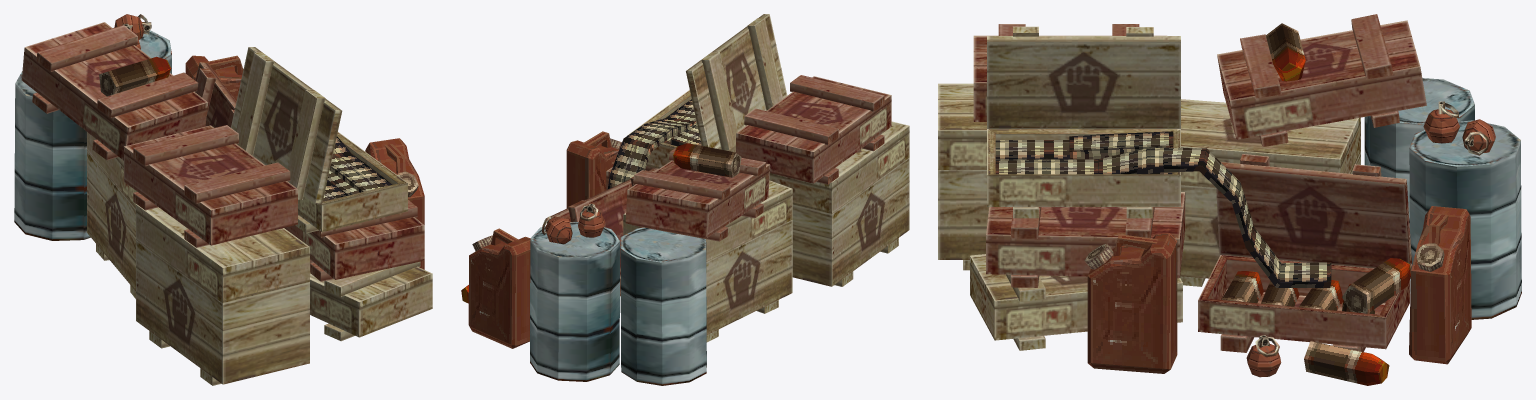
File: C1SMAMMODUMP.obj
3 renders of one model, left to right at view 1: azimuth 30°, elevation 25°; view 2: azimuth 150°, elevation 25°; view 3: azimuth 270°, elevation 25°, orthographic. The views are drawn at different scales.
Visible parts, largest first — view 1: Node 3, Node 4, Node 5, Node 6, Node 0, Node 2; view 2: Node 3, Node 5, Node 2, Node 0, Node 6, Node 4; view 3: Node 4, Node 0, Node 5, Node 2, Node 3, Node 6.
Boxes of the visible parts, <box> form: Node 3: <box>124,125,309,385</box>; Node 4: <box>231,47,432,341</box>; Node 5: <box>21,22,208,298</box>; Node 6: <box>14,71,90,240</box>; Node 0: <box>185,52,424,269</box>; Node 2: <box>114,14,171,73</box>; Node 3: <box>736,75,909,286</box>; Node 5: <box>623,143,792,342</box>; Node 2: <box>530,203,619,381</box>; Node 0: <box>461,52,737,348</box>; Node 6: <box>620,227,706,385</box>; Node 4: <box>606,14,787,189</box>; Node 4: <box>970,26,1331,350</box>; Node 0: <box>1084,27,1471,385</box>; Node 5: <box>1180,14,1426,286</box>; Node 2: <box>1409,101,1521,319</box>; Node 3: <box>938,24,1166,270</box>; Node 6: <box>1364,78,1474,227</box>.
Size of the model in its own units: 3.59 by 2.72 by 5.4.
Materials: 14 (14 with a texture image).
